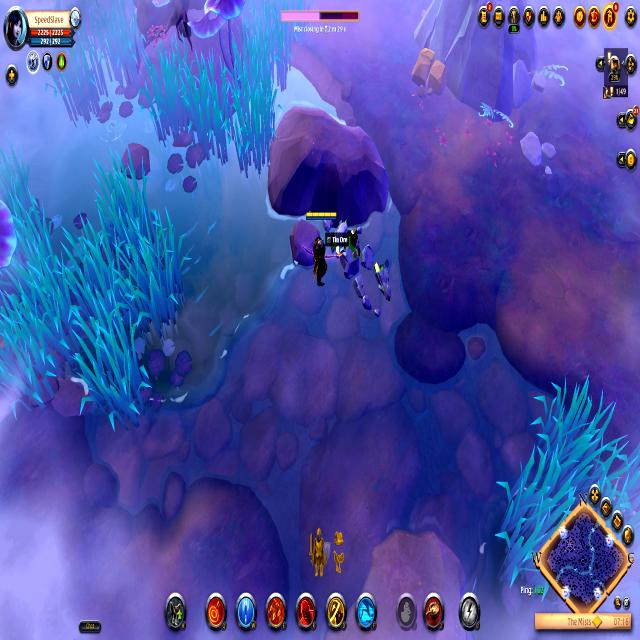player: (321, 202, 396, 326)
red: (302, 206, 338, 294)
tree: (408, 43, 448, 102)
